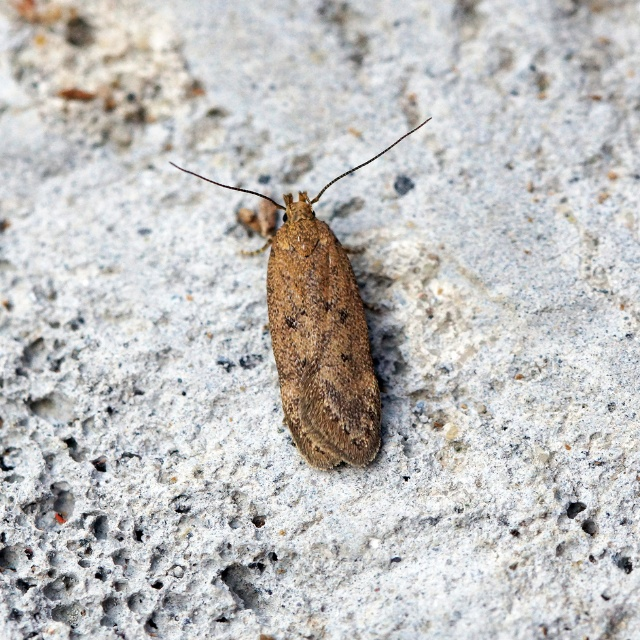Moths and butterflies: (165, 116, 436, 474)
